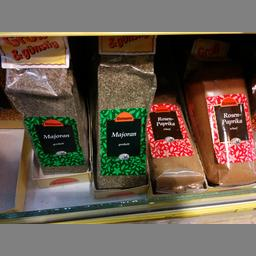spices: (92, 36, 154, 188), (3, 66, 88, 172), (188, 57, 254, 185), (148, 86, 204, 188)
